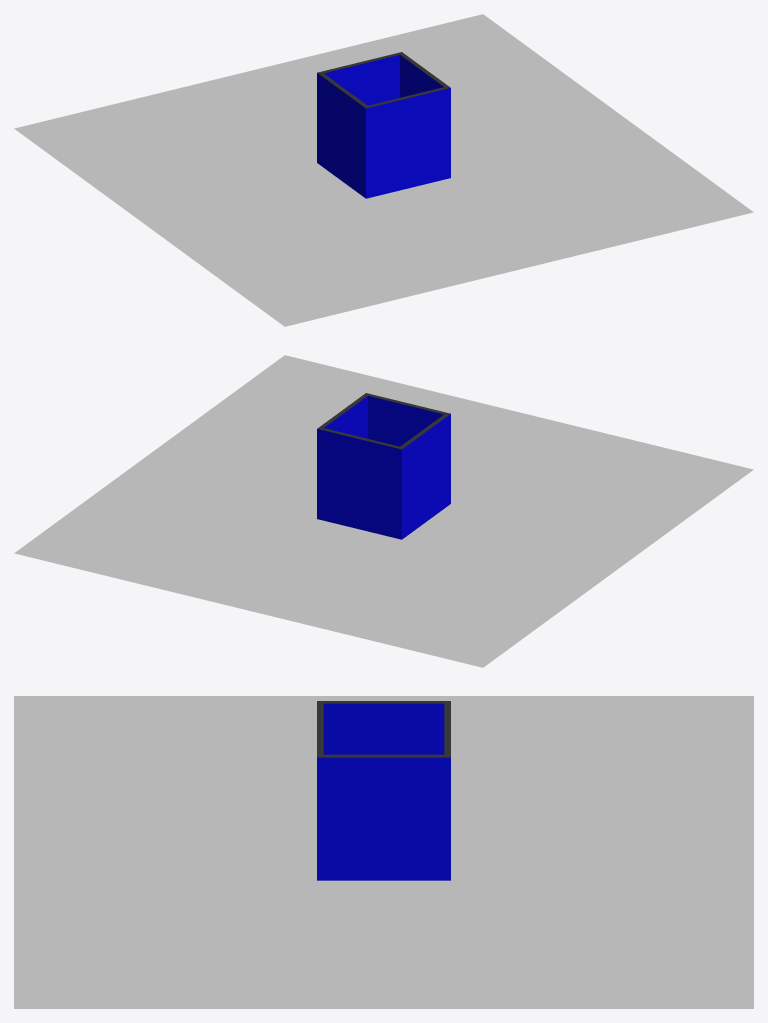
File: foo.obj
3 views of the same model, one above another, from view 1: azimuth 30°, elevation 25°; view 2: azimuth 150°, elevation 25°; view 3: azimuth 270°, elevation 25° (orthographic). The views are drawn at different scales.
Bounding box in the file's own units: 1.11 × 0.2032 × 1.11.
